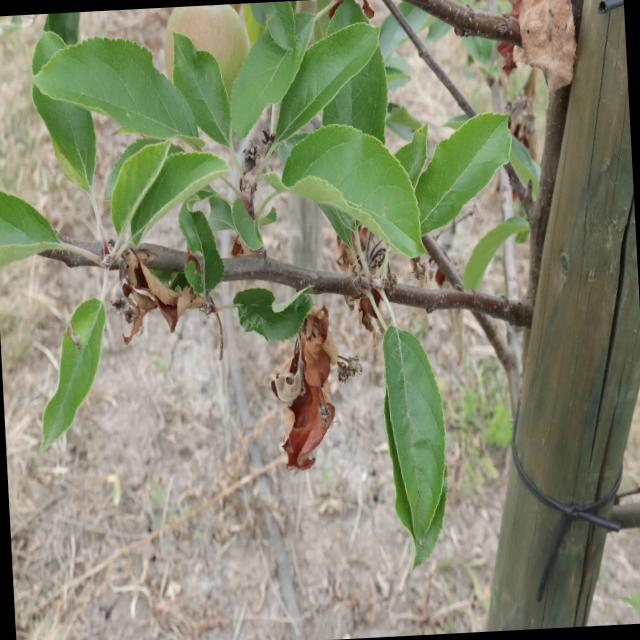-FireBlight-: (264, 320, 346, 480), (112, 237, 206, 335)
